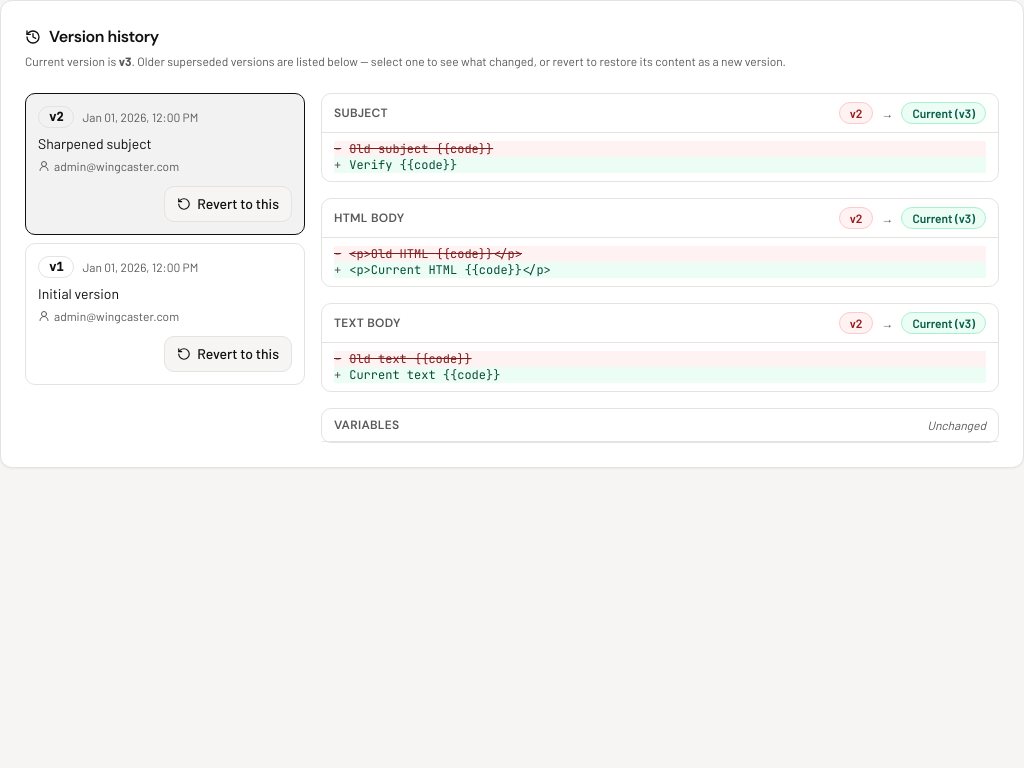
Scenario: revert flow › surfaces a revert error inside the dialog without closing it
Click the button with aria-label "revert to version 2": click(228, 204) [164,186,292,222]
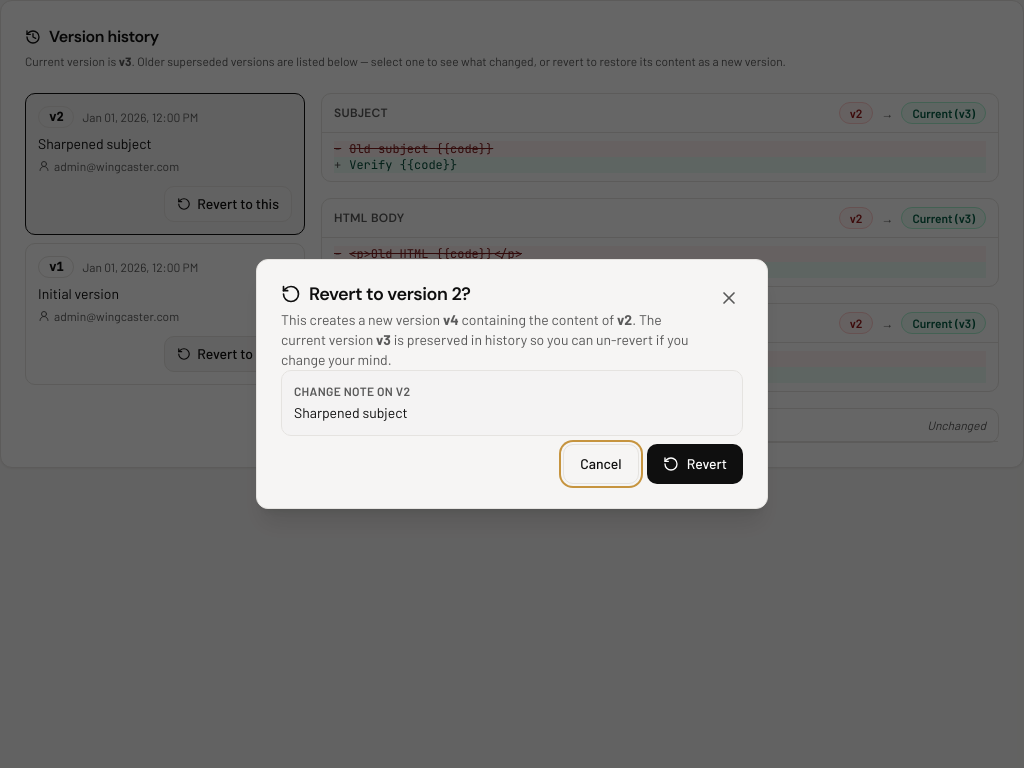
Click the button "Revert": click(695, 464) [647,444,743,484]
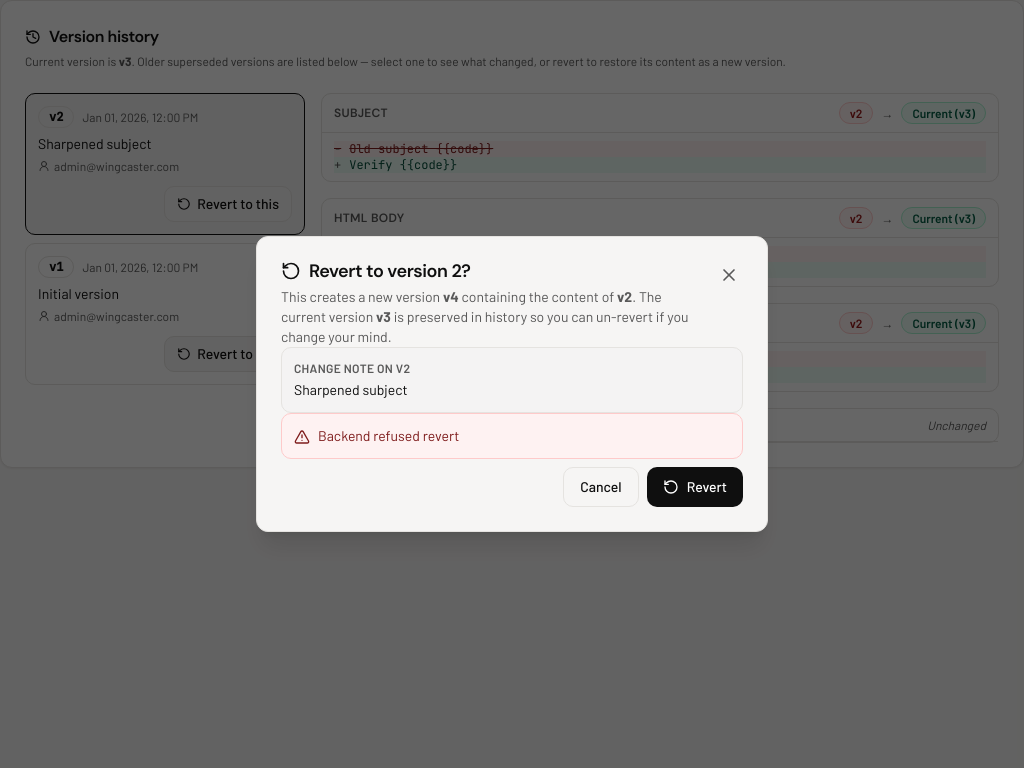
Check: the dialog is shown, box [256,236,768,532]
Check: the message reads "Backend refused revert", box [318,427,459,444]
